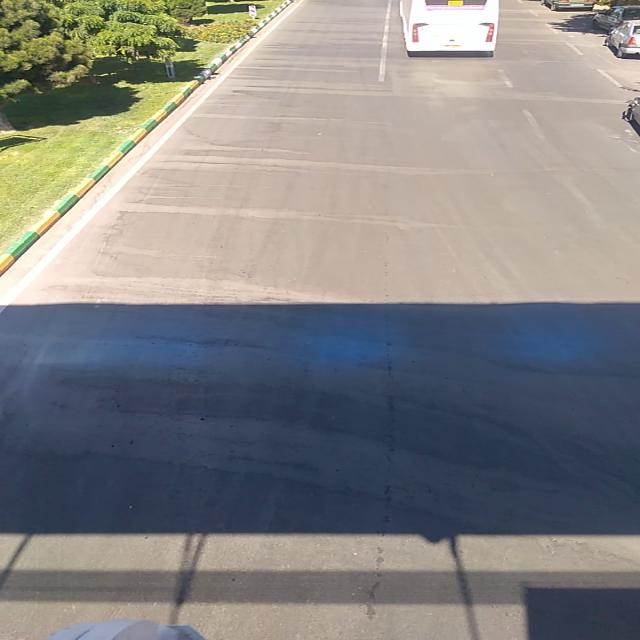bus: (398, 0, 502, 54)
car: (606, 21, 638, 59)
